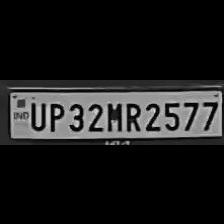2: (84, 98, 104, 132), (142, 98, 160, 130)
3: (64, 98, 84, 132)
5: (160, 97, 180, 130)
7: (198, 97, 218, 130), (180, 97, 198, 130)
M: (104, 98, 122, 132)
P: (44, 98, 64, 132)
R: (122, 98, 140, 132)
U: (27, 98, 46, 130)
